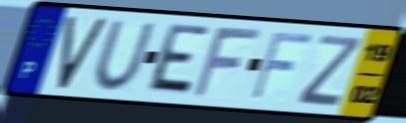E: (143, 21, 213, 100)
F: (189, 27, 266, 101), (247, 29, 317, 103)
U: (92, 19, 158, 93)
V: (55, 16, 110, 92)
Z: (294, 32, 365, 109)
